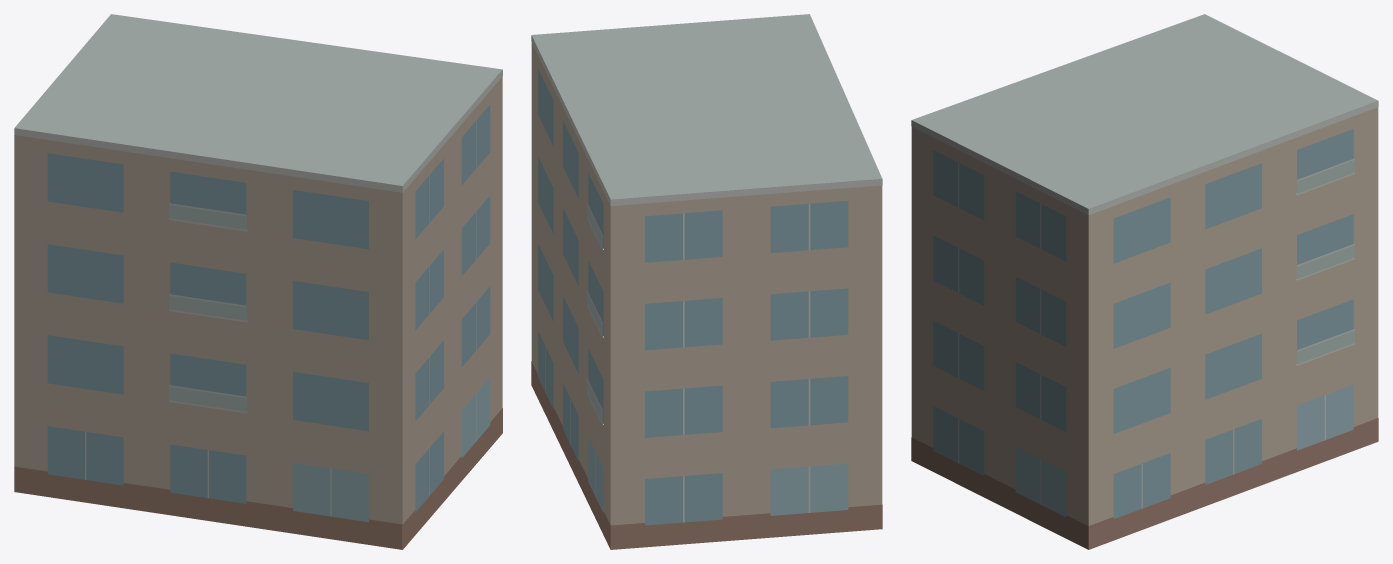
The model's file is survey-upis-32840660.glb.
3 views of the same model, side by side, from view 1: azimuth 30°, elevation 25°; view 2: azimuth 150°, elevation 25°; view 3: azimuth 270°, elevation 25° (orthographic). The views are drawn at different scales.
Parts seen in each view (by area): view 1: survey-upis-32840660.tmp; view 2: survey-upis-32840660.tmp; view 3: survey-upis-32840660.tmp.
Part boxes in pixels (x1,y1,x2,y2): survey-upis-32840660.tmp: [14, 14, 502, 549]; survey-upis-32840660.tmp: [531, 14, 882, 549]; survey-upis-32840660.tmp: [911, 14, 1378, 549].
Bounding box in the file's own units: 16.02 × 13.05 × 16.21.
